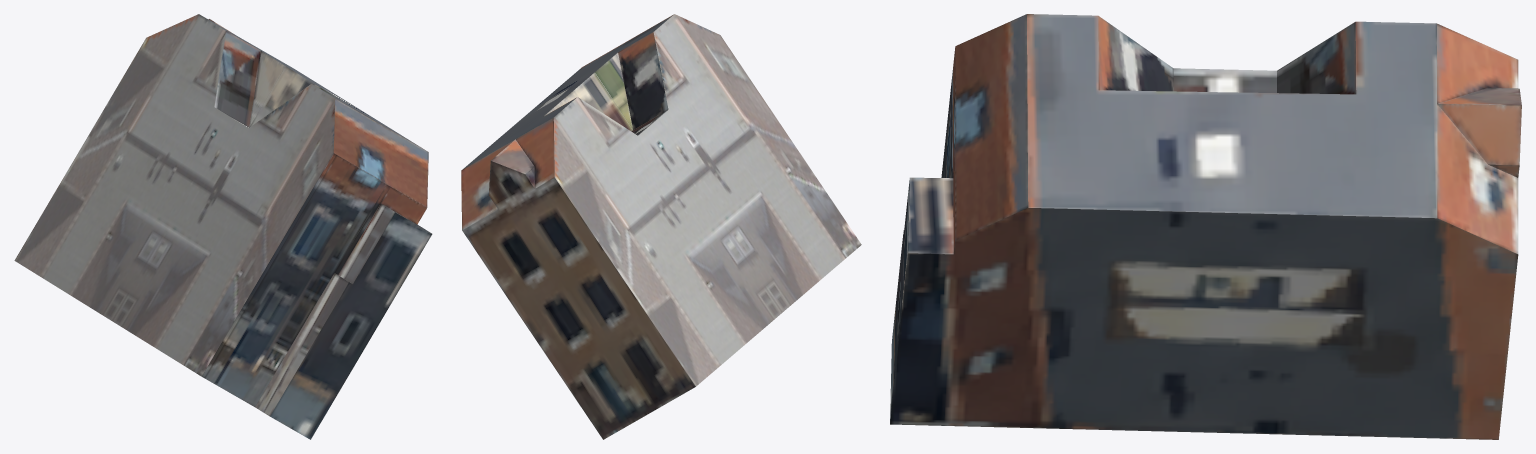
3 renders of one model, left to right at view 1: azimuth 30°, elevation 25°; view 2: azimuth 150°, elevation 25°; view 3: azimuth 270°, elevation 25°, orthographic. The views are drawn at different scales.
Parts seen in each view (by area): view 1: BAG_0599100000670790 (×3); view 2: BAG_0599100000670790 (×3); view 3: BAG_0599100000670790 (×3).
Boxes of the visible parts, x1,y1,x2,y2 form: BAG_0599100000670790 (×3): (14, 14, 432, 439); BAG_0599100000670790 (×3): (461, 14, 861, 439); BAG_0599100000670790 (×3): (890, 14, 1521, 439).
Bounding box in the file's own units: 12.91 × 14.3 × 16.89.
Materials: 2 (2 with a texture image).
